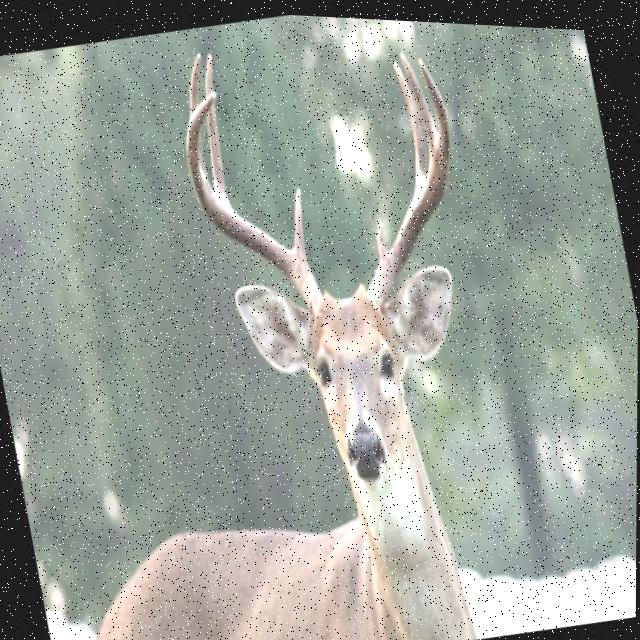L-F: (186, 88, 323, 309)
L-G1: (293, 183, 309, 261)
R-F: (368, 51, 451, 309)
R-G1: (378, 219, 388, 255)
R-G2: (392, 55, 426, 176)
R-G3: (399, 46, 438, 147)
